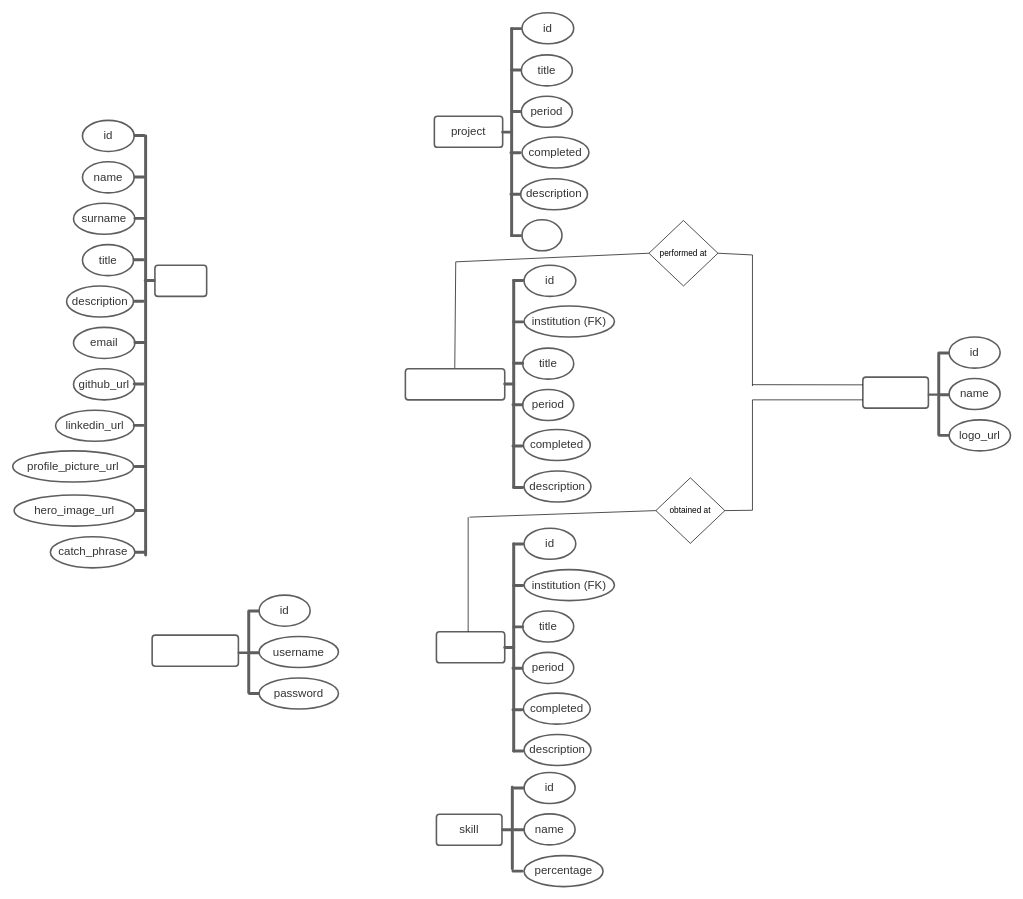
The diagram is 1023 pixels wide and 899 high, and some of its shapes have lost their labels. The centre of each missing label's shape, as x and y in pixels:
education: point (470, 647)
institution: point (895, 392)
person: point (180, 280)
system_user: point (195, 650)
url: point (541, 235)
work_experience: point (454, 384)
